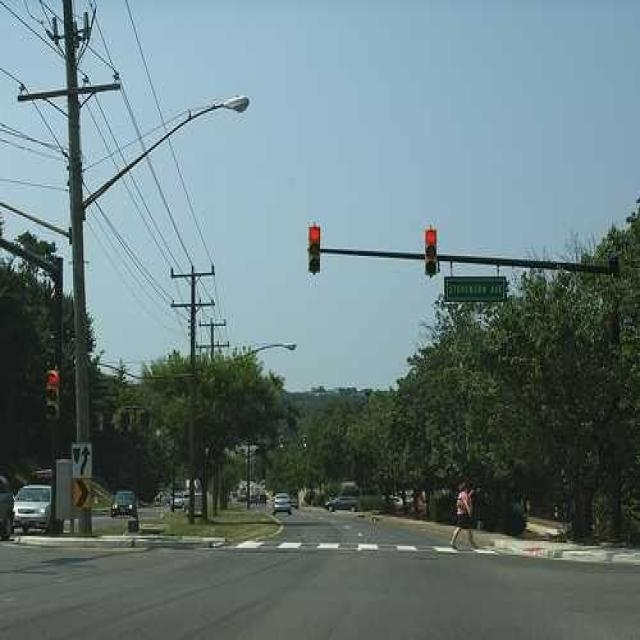Traffic Light -Red-: (41, 369, 63, 418), (306, 224, 322, 273), (424, 226, 439, 276)
